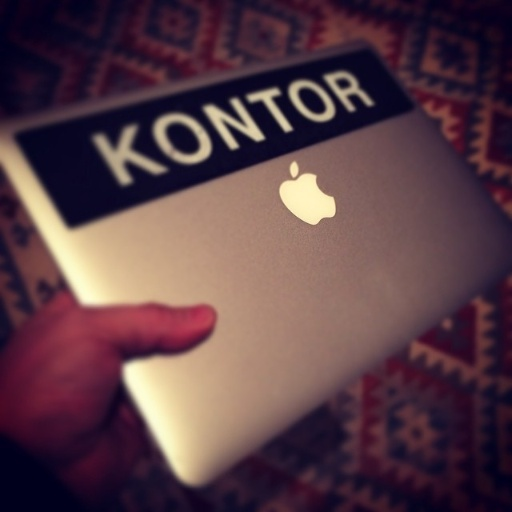hand: (0, 269, 219, 457)
